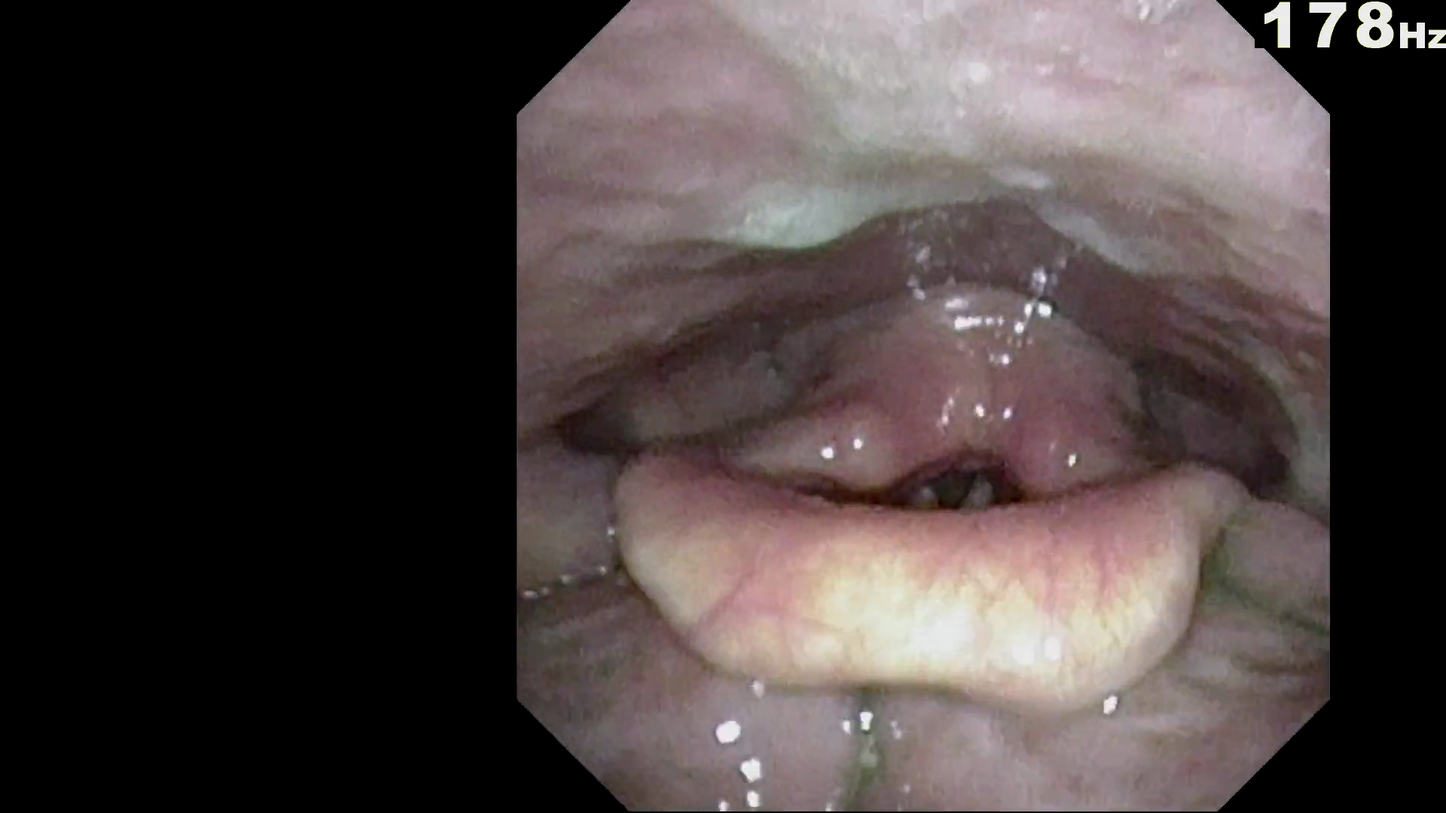epiglottis: (635, 491, 1179, 682)
trachea: (875, 441, 1030, 523)
